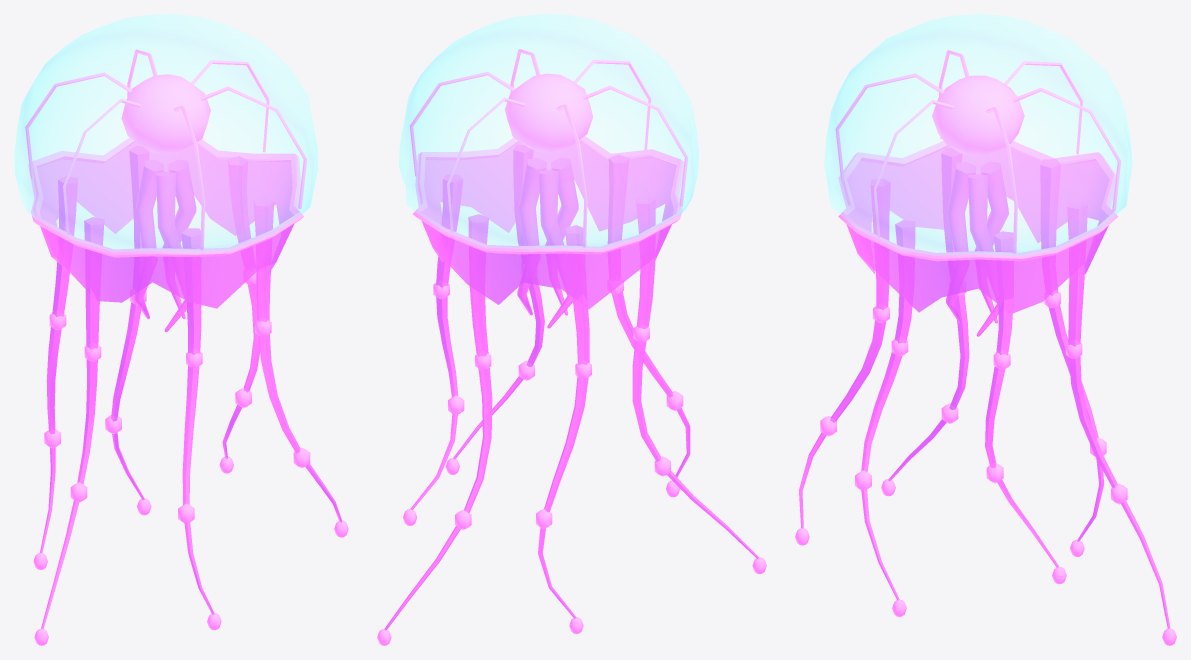
Rendered from creature_floater_a.glb.
3 renders of one model, left to right at view 1: azimuth 30°, elevation 25°; view 2: azimuth 150°, elevation 25°; view 3: azimuth 270°, elevation 25°, orthographic. The views are drawn at different scales.
Parts seen in each view (by area): view 1: Body, Tentacle_4, Tentacle_5, Tentacle_6, Tentacle_3, Tentacle_1, Tentacle_2; view 2: Body, Tentacle_2, Tentacle_3, Tentacle_4, Tentacle_5, Tentacle_1, Tentacle_6; view 3: Body, Tentacle_2, Tentacle_6, Tentacle_5, Tentacle_1, Tentacle_3, Tentacle_4.
Part boxes in pixels (x1,y1,x2,y2): Body: [14, 14, 318, 332]; Tentacle_4: [34, 217, 104, 645]; Tentacle_5: [178, 228, 221, 630]; Tentacle_6: [253, 197, 348, 537]; Tentacle_3: [33, 176, 77, 570]; Tentacle_1: [219, 156, 260, 473]; Tentacle_2: [105, 145, 151, 515]; Body: [399, 14, 698, 328]; Tentacle_2: [377, 214, 492, 645]; Tentacle_3: [536, 225, 591, 634]; Tentacle_4: [632, 195, 766, 574]; Tentacle_5: [607, 154, 690, 497]; Tentacle_1: [403, 174, 464, 525]; Tentacle_6: [445, 144, 544, 474]; Body: [824, 14, 1132, 336]; Tentacle_2: [1065, 201, 1176, 645]; Tentacle_6: [855, 220, 915, 616]; Tentacle_5: [795, 178, 890, 545]; Tentacle_1: [985, 231, 1066, 584]; Tentacle_3: [1040, 159, 1106, 556]; Tentacle_4: [881, 148, 969, 496].
Bounding box in the file's own units: 1.6 × 2.75 × 1.65.
